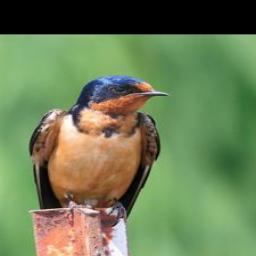Swallow: (27, 74, 170, 229)
